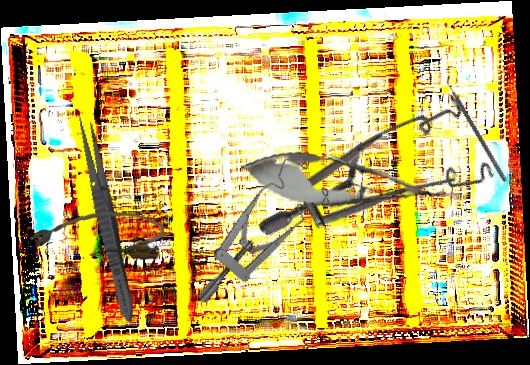Cannula: (29, 208, 165, 261)
Dressing Forceps: (71, 112, 141, 325)
Micro Scissor: (237, 142, 467, 224)
Spatula Surgical: (441, 73, 512, 183)
Speculum: (257, 52, 516, 323), (159, 147, 351, 307)
